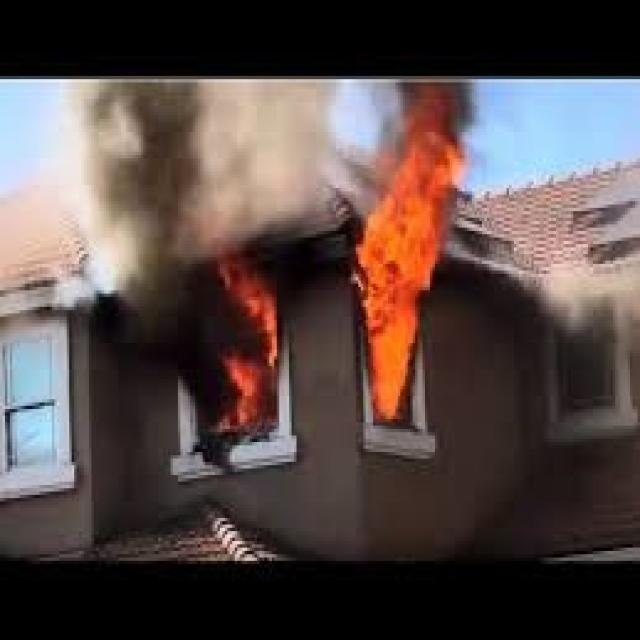fire: (386, 83, 463, 196), (216, 258, 278, 366), (355, 247, 431, 331), (361, 194, 449, 264), (362, 331, 421, 423), (203, 397, 277, 434), (217, 354, 267, 398)
